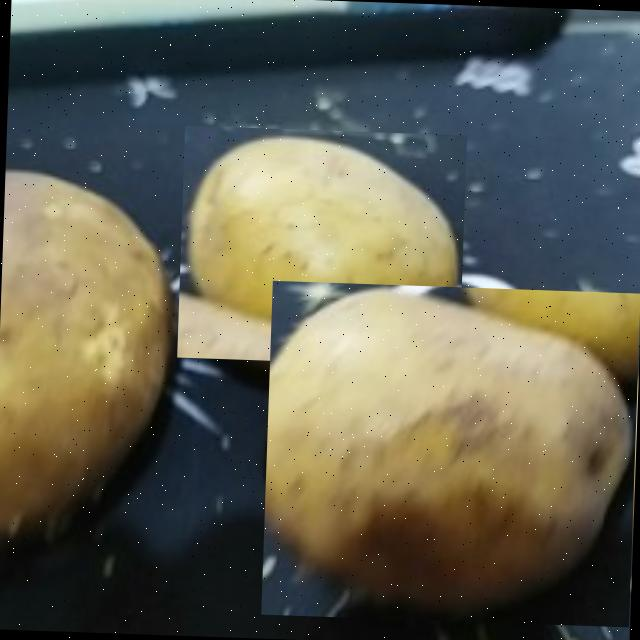Damaged potato: (261, 280, 640, 627), (0, 165, 179, 566)
Potato: (176, 125, 466, 367)
